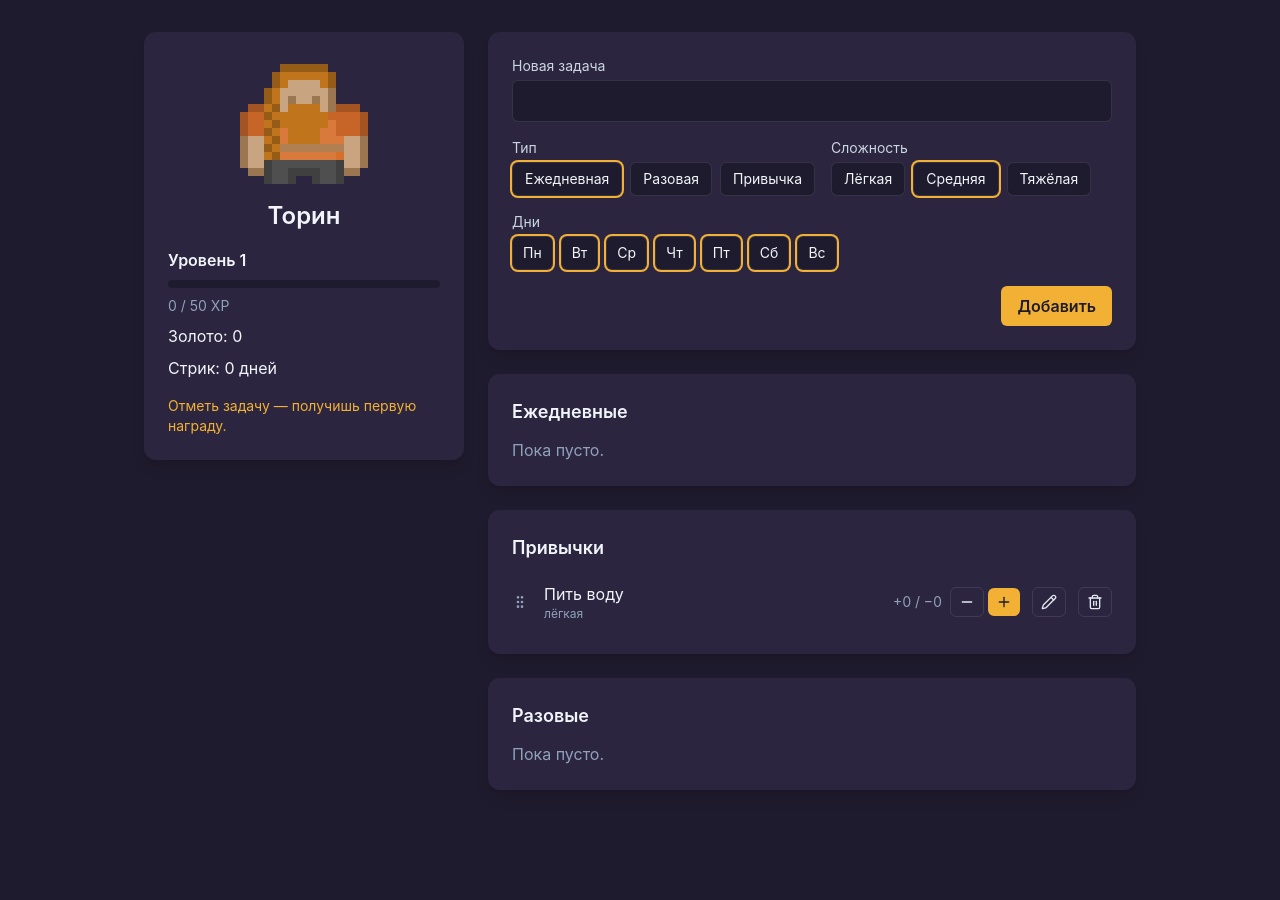
Test: HomeView › marks a habit plus and shows what it gave
This screenshot has width=1280, height=900.
Click the button named "Плюс: Пить воду" at (1004, 602), box 988,588 -> 1020,616
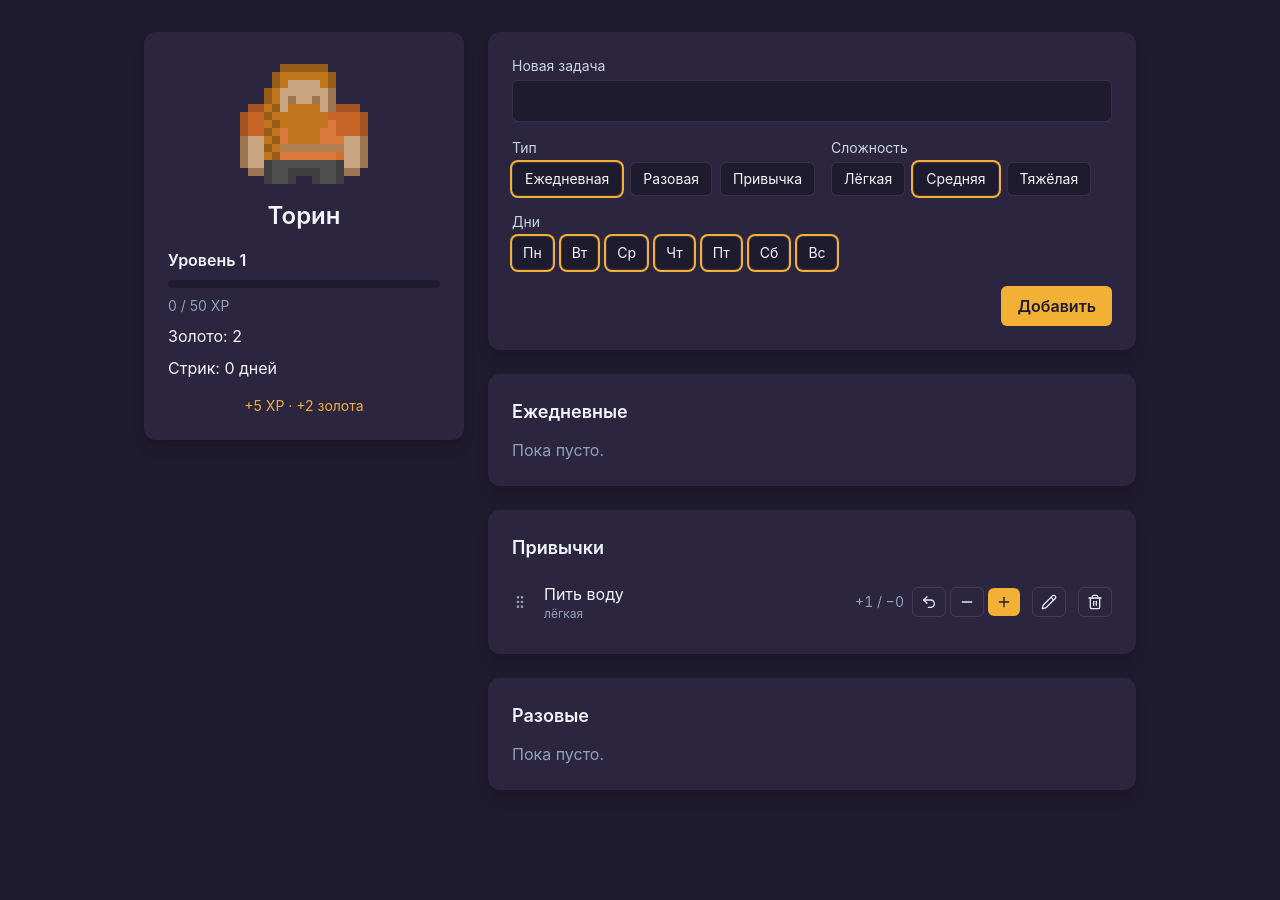
Result: the text with test id "habit-counts" reads "+1 / −0" at 855,593 -> 904,610
Result: the message with test id "reward-notice" reads "+5 XP · +2 золота" at 244,397 -> 364,414
